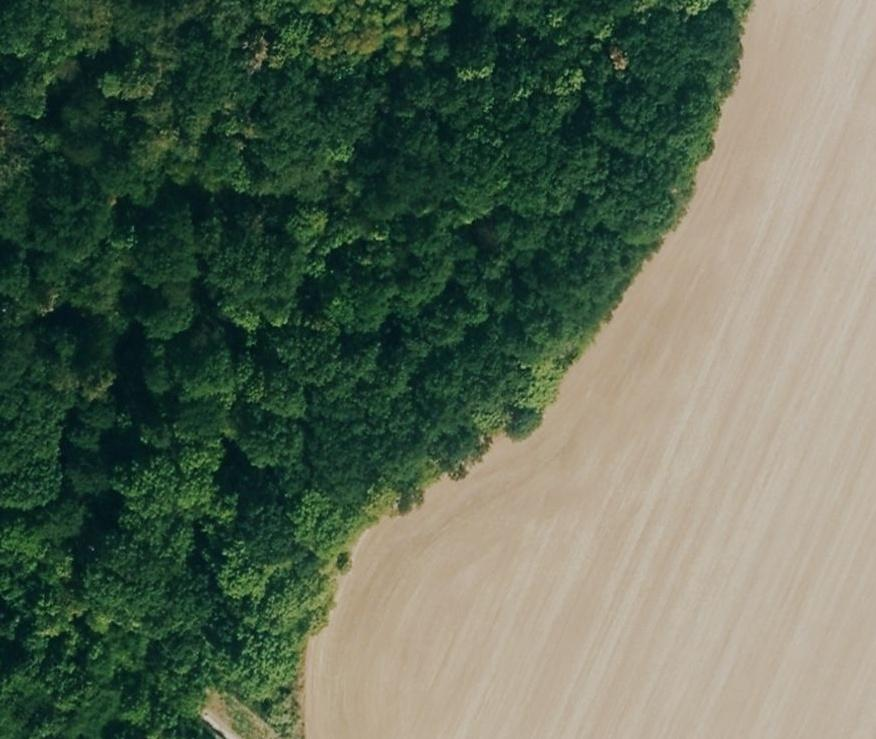field: (305, 3, 876, 737)
forest: (0, 3, 745, 737)
